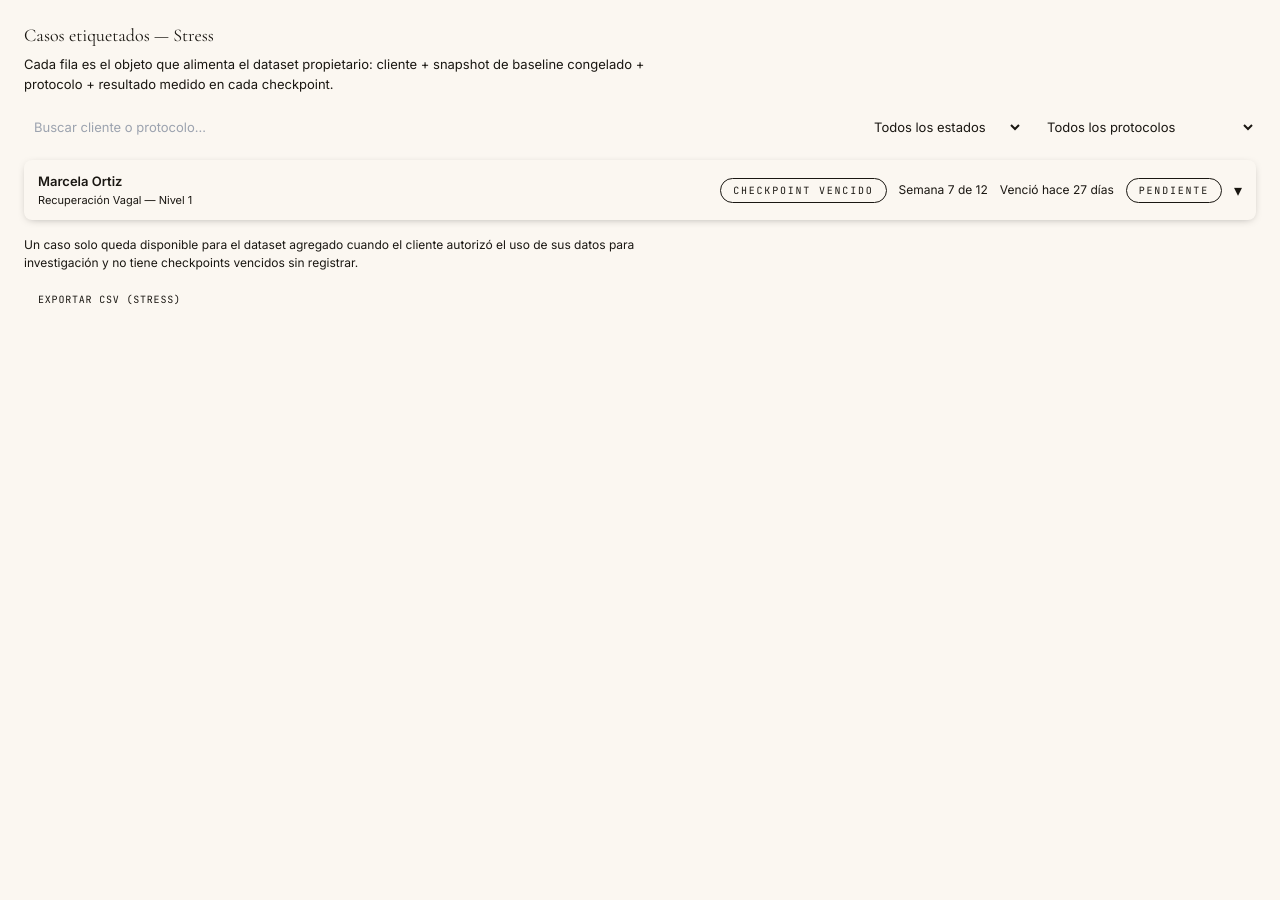
Test case: AdminStressCasesPanel (punto 24) › shows a fallback message when the frozen baseline snapshot has no data at all
Click the text "Marcela Ortiz" at (80, 181), box [38, 173, 122, 189]
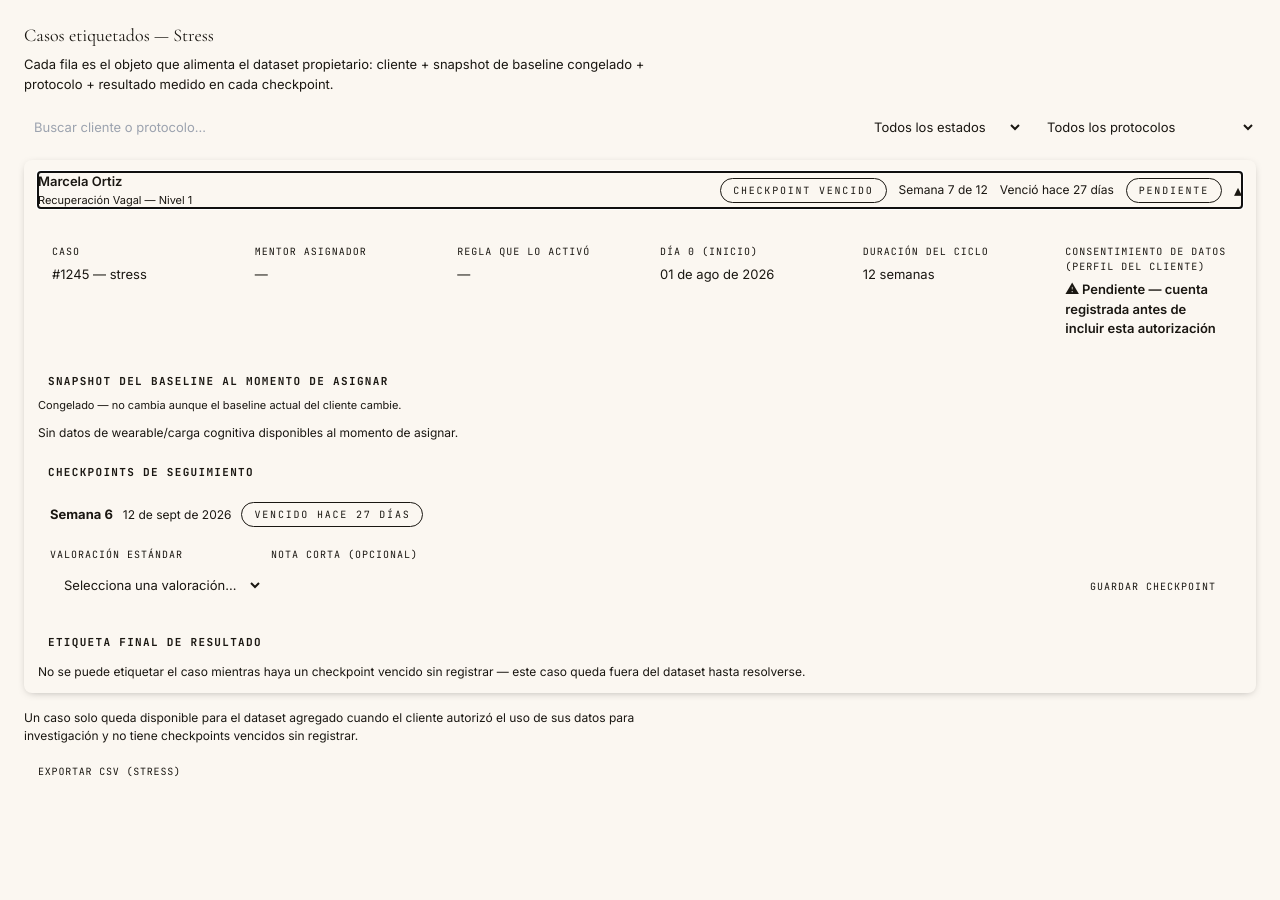
expect the text "Sin datos de wearable/carga cognitiva disponibles" is shown: met, box [38, 424, 458, 440]
